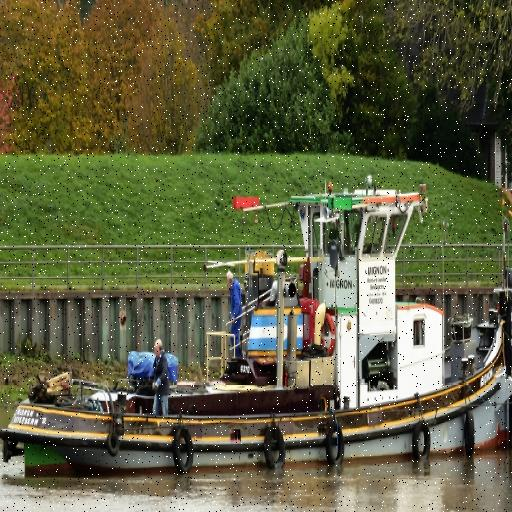tugboat: (1, 173, 512, 495)
